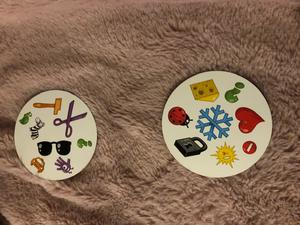cadenas: (172, 136, 208, 159)
ciseau: (53, 100, 88, 138)
coccinelle: (167, 105, 194, 128)
coeur: (234, 105, 266, 134)
dooble: (53, 155, 76, 173)
flocon: (190, 104, 236, 140)
fromage: (186, 77, 221, 104)
lunette: (34, 137, 73, 158)
marteau: (32, 97, 63, 116)
point_interrogation: (222, 80, 246, 105), (74, 136, 92, 151)
sens_interdit: (241, 140, 257, 156)
soleil: (208, 141, 241, 169)
tortue: (18, 109, 34, 125)
voiture: (29, 155, 46, 174)
zebre: (27, 116, 49, 140)
